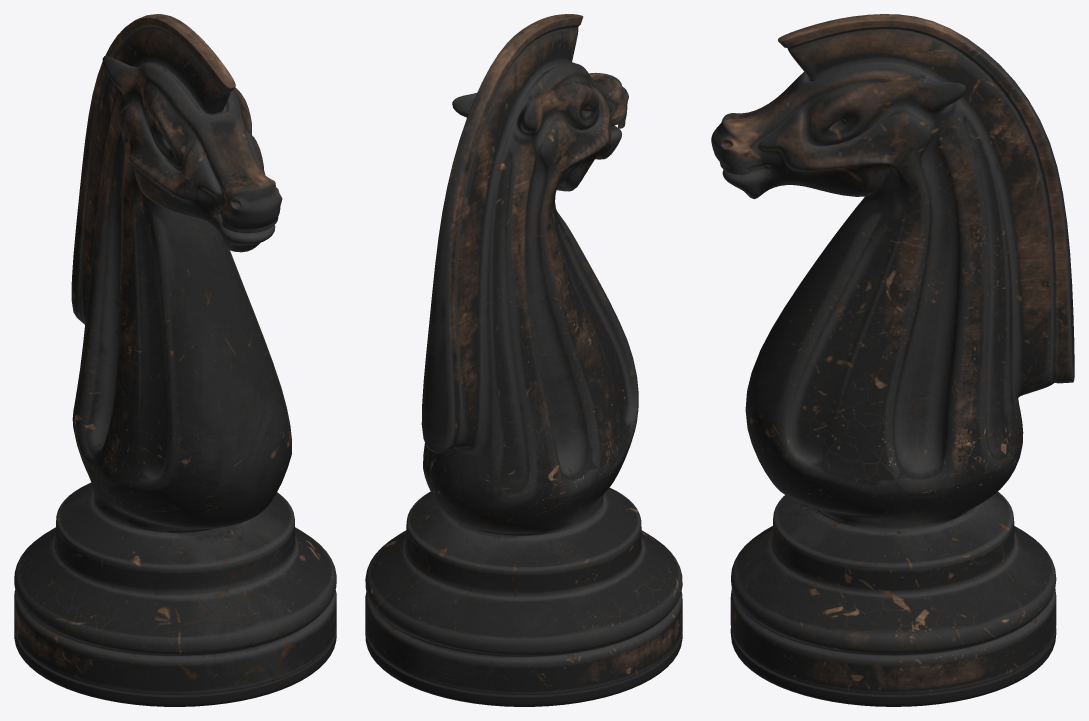
The model's file is knight.glb.
The picture shows the model from 3 angles, left to right: view 1: azimuth 30°, elevation 25°; view 2: azimuth 150°, elevation 25°; view 3: azimuth 270°, elevation 25°; orthographic projection. The views are drawn at different scales.
Parts seen in each view (by area): view 1: Caballo002_Material #3_0; view 2: Caballo002_Material #3_0; view 3: Caballo002_Material #3_0.
Part boxes in pixels (left/top/right/bottom): Caballo002_Material #3_0: left=14, top=14, right=336, bottom=706; Caballo002_Material #3_0: left=365, top=14, right=682, bottom=706; Caballo002_Material #3_0: left=711, top=14, right=1074, bottom=706.
Size of the model in its own units: 0.0576 by 0.1219 by 0.0643.
1 material, 1 textured.
